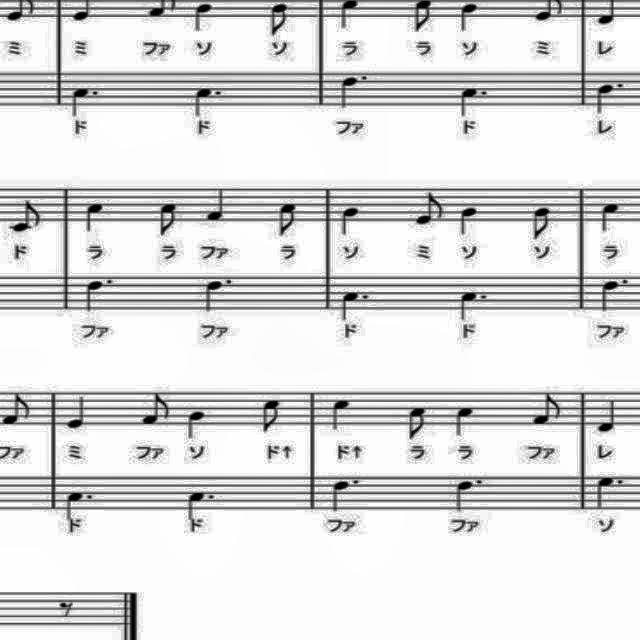Eighth-note: (4, 199, 52, 237), (530, 388, 566, 434), (138, 390, 174, 432), (412, 194, 443, 232), (259, 397, 287, 439), (526, 200, 554, 240), (276, 199, 302, 241), (265, 0, 293, 38), (155, 200, 181, 240), (406, 404, 432, 444)
Eighth-rest: (55, 596, 79, 620)
Quarter-dot: (200, 273, 240, 319), (590, 471, 630, 517), (448, 475, 488, 517), (336, 69, 376, 109), (328, 472, 364, 516), (594, 276, 632, 316), (592, 78, 628, 118), (451, 288, 491, 324), (192, 82, 228, 120), (80, 278, 116, 316), (60, 485, 96, 523), (183, 484, 217, 524), (456, 83, 494, 117), (68, 84, 100, 118), (339, 288, 369, 322)
Quarter-note: (203, 183, 233, 227), (64, 392, 92, 432), (336, 200, 362, 240), (450, 404, 478, 441), (185, 0, 215, 34), (326, 398, 354, 432), (454, 204, 480, 240), (82, 198, 106, 236), (598, 201, 622, 239), (597, 397, 619, 438), (456, 0, 484, 32), (184, 406, 208, 442)
